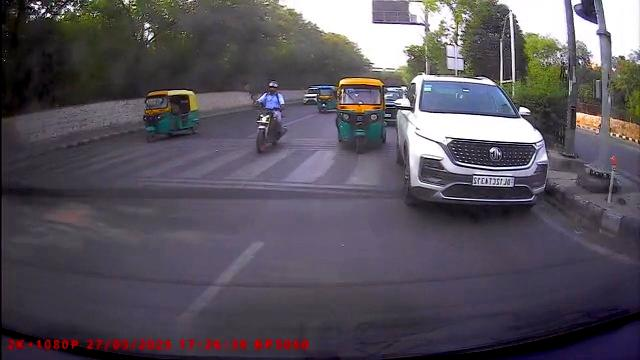motorcycle_with_helmet: (249, 82, 293, 154)
